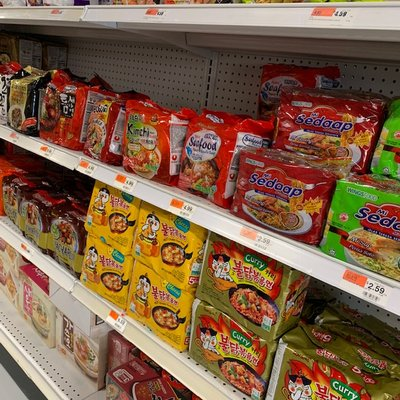sushi: (0, 30, 399, 400)
